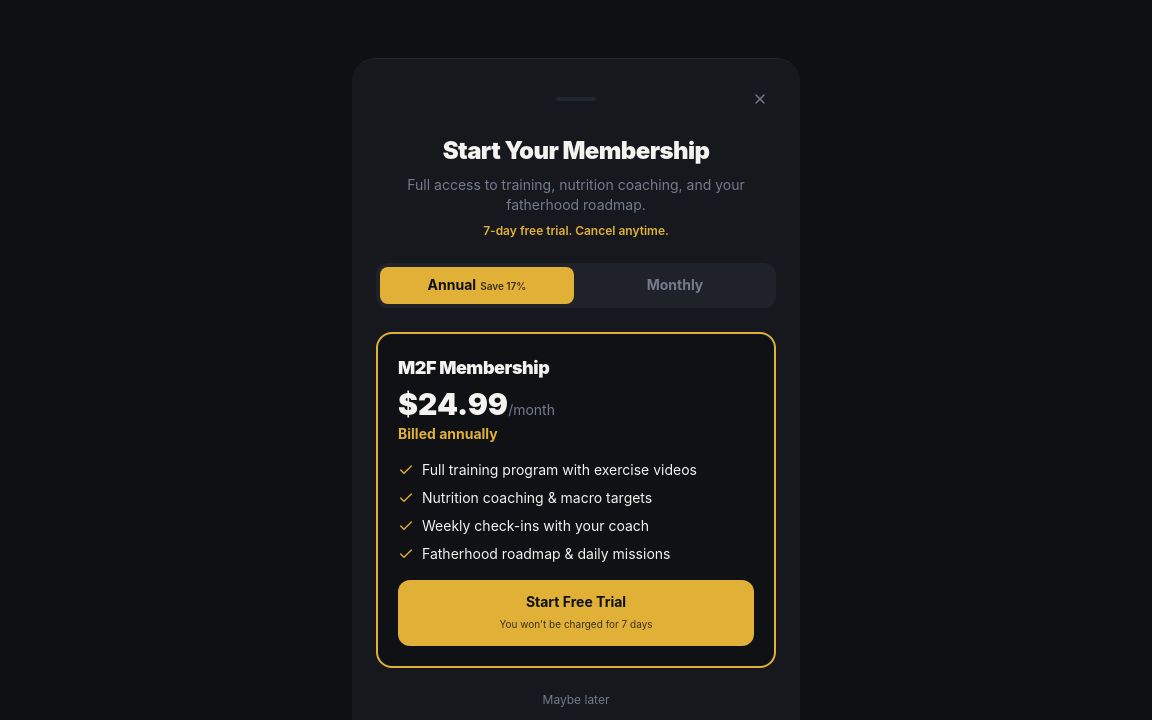
Test case: membership upgrade offer › switches to the $29.99 monthly plan and starts monthly checkout
Later steps or results of the test are not shown.
Click the button "Monthly" at coordinates (675, 285), box x1=578 y1=267 x2=772 y2=304
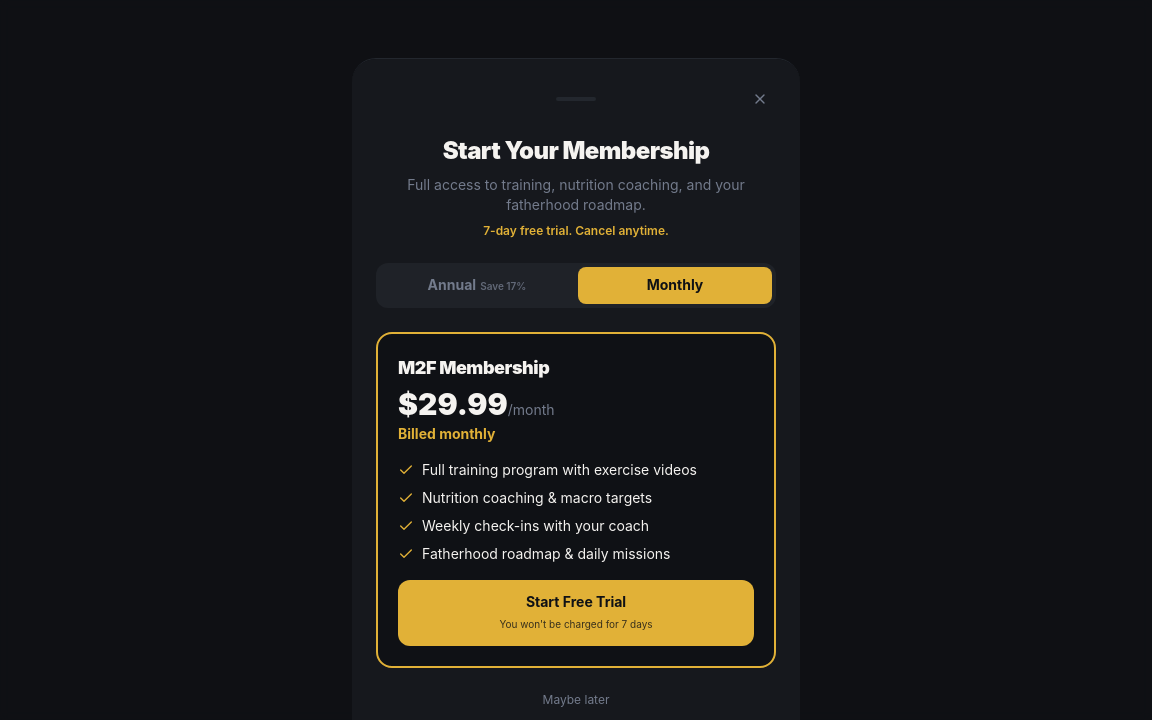
Expected: the text "$29.99" is shown, x1=398 y1=386 x2=508 y2=422
Expected: the text "Billed monthly" is shown, x1=398 y1=425 x2=496 y2=442
